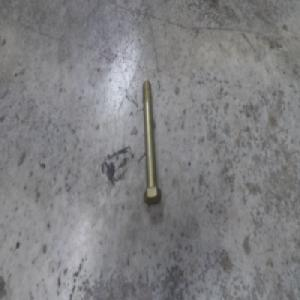Bolt: (141, 78, 162, 203)
